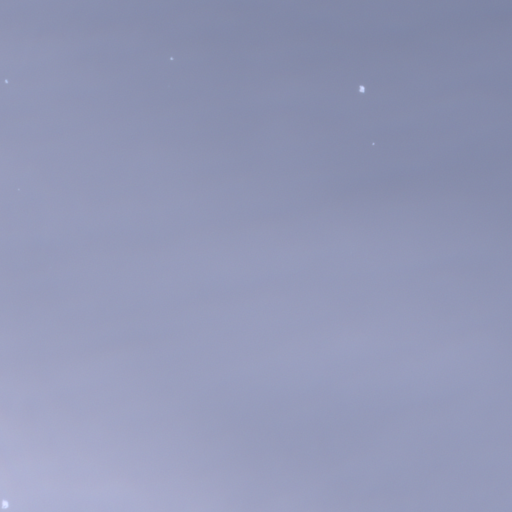Iceberg: (2, 500, 7, 508), (359, 85, 364, 92), (5, 79, 7, 82), (170, 57, 172, 59), (372, 143, 374, 144)
